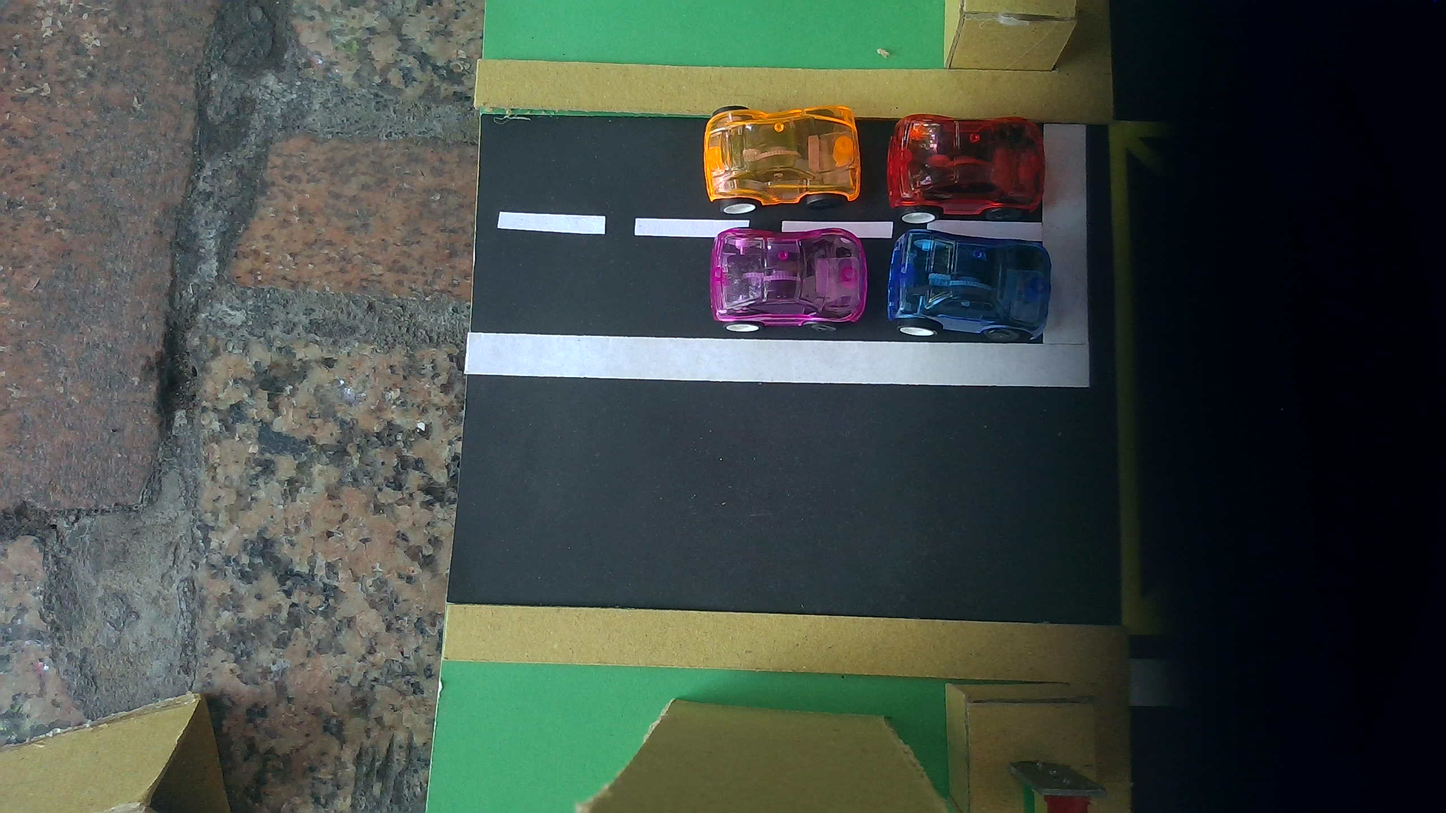Mobil biru: (886, 229, 1051, 342)
Mobil merah: (886, 115, 1046, 225)
Mobil orange: (704, 106, 861, 213)
Mobil ungu: (709, 228, 867, 331)
